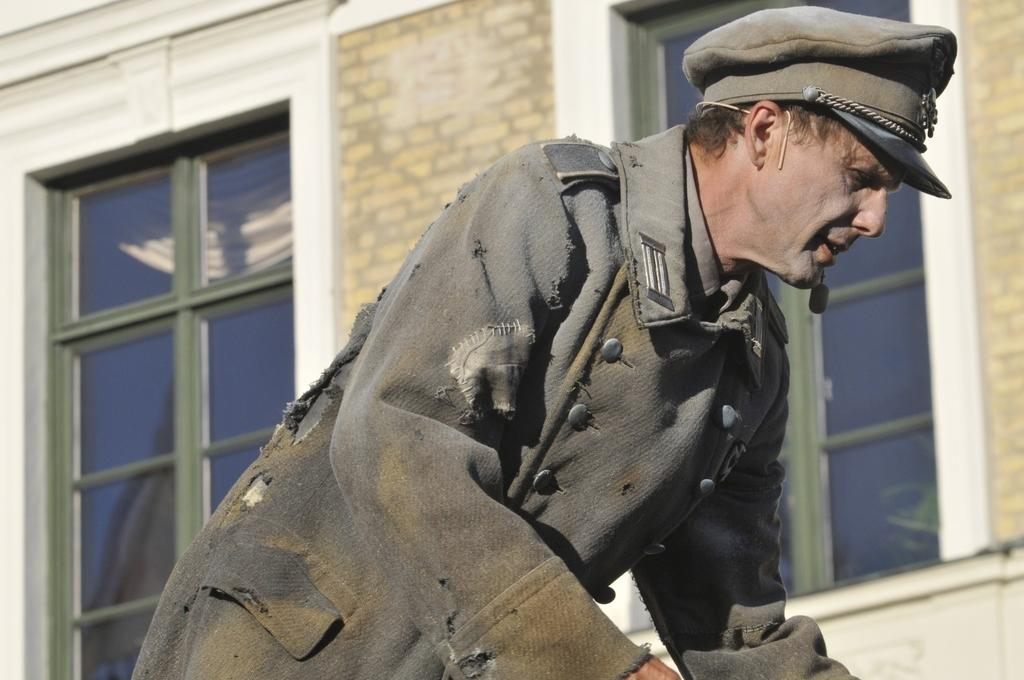Hat: (680, 2, 950, 200)
